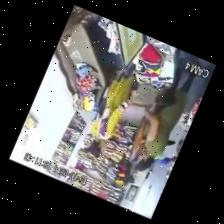person: (135, 68, 194, 170), (85, 73, 137, 156), (125, 116, 147, 182)
